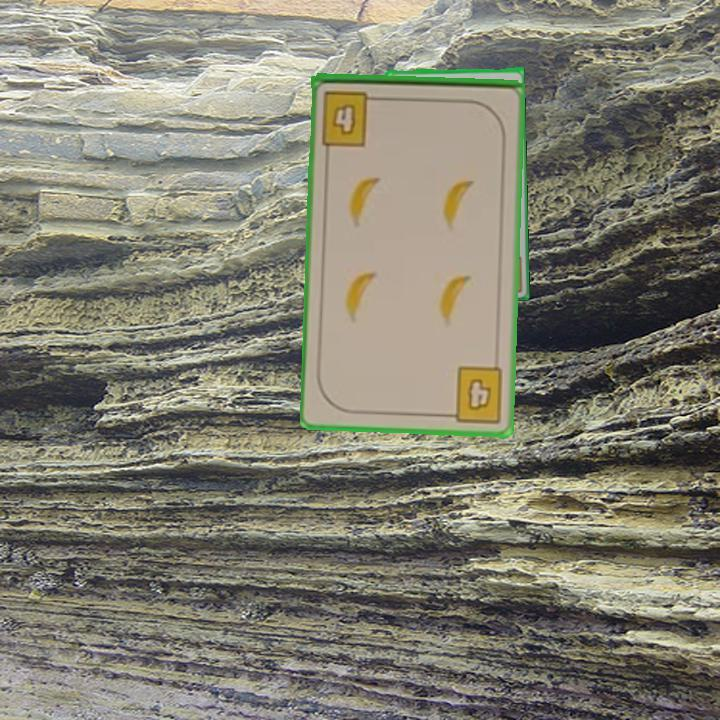4b: (318, 87, 385, 149), (441, 363, 507, 425)
